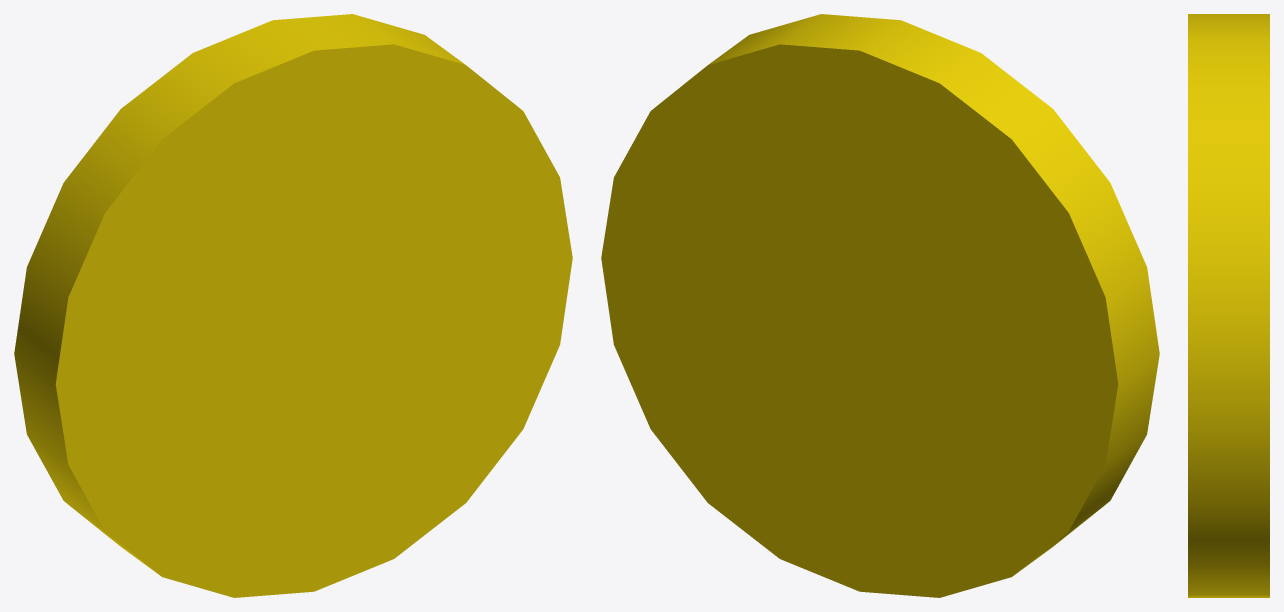
File: Coin.fbx
The picture shows the model from 3 angles, left to right: view 1: azimuth 30°, elevation 25°; view 2: azimuth 150°, elevation 25°; view 3: azimuth 270°, elevation 25°; orthographic projection.
Visible parts, largest first — view 1: pCylinder2; view 2: pCylinder2; view 3: pCylinder2.
Part boxes in pixels (left/top/right/bottom): pCylinder2: left=14, top=14, right=572, bottom=597; pCylinder2: left=601, top=14, right=1159, bottom=597; pCylinder2: left=1188, top=14, right=1269, bottom=597.
Size of the model in its own units: 0.36 by 0.36 by 0.05.
